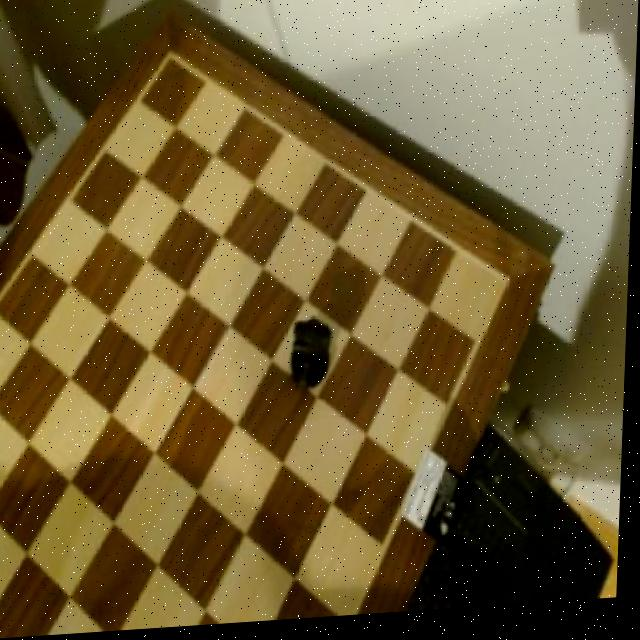black-king: (289, 312, 341, 406)
